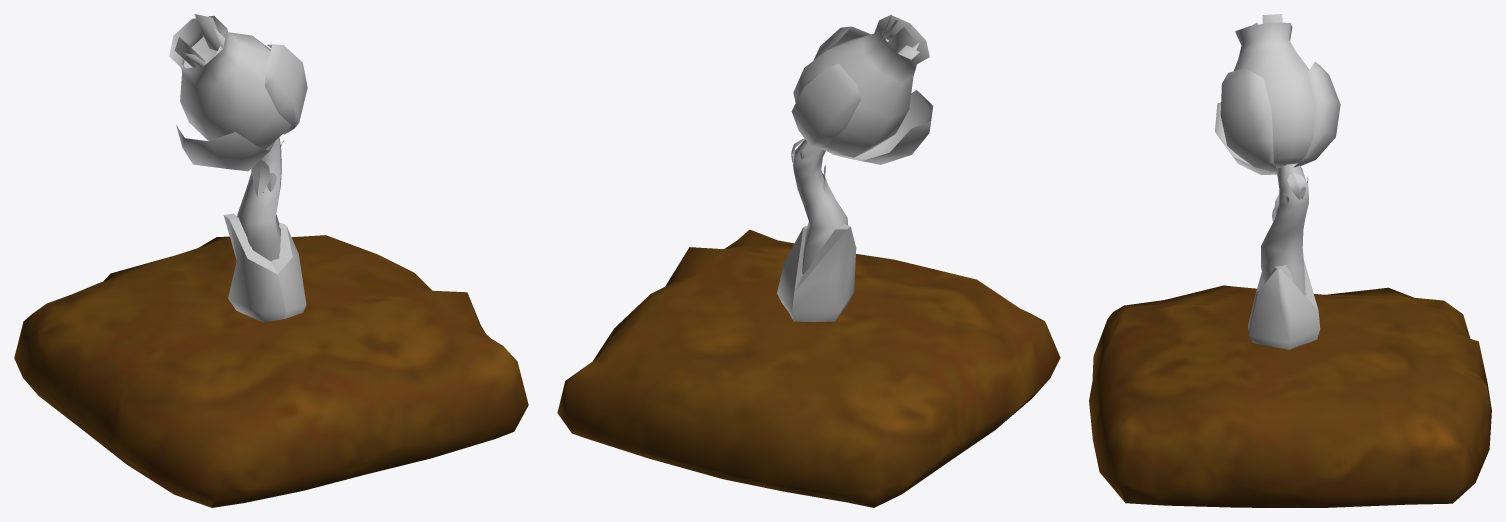
File: hvs_plantables_blueberry.fbx
3 renders of one model, left to right at view 1: azimuth 30°, elevation 25°; view 2: azimuth 150°, elevation 25°; view 3: azimuth 270°, elevation 25°, orthographic. The views are drawn at different scales.
Parts seen in each view (by area): view 1: hvs_plantables_blueberry; view 2: hvs_plantables_blueberry; view 3: hvs_plantables_blueberry.
Boxes of the visible parts, x1,y1,x2,y2 form: hvs_plantables_blueberry: [14, 14, 528, 507]; hvs_plantables_blueberry: [557, 14, 1060, 507]; hvs_plantables_blueberry: [1089, 14, 1491, 507].
Size of the model in its own units: 3.76 by 4.03 by 3.83.
